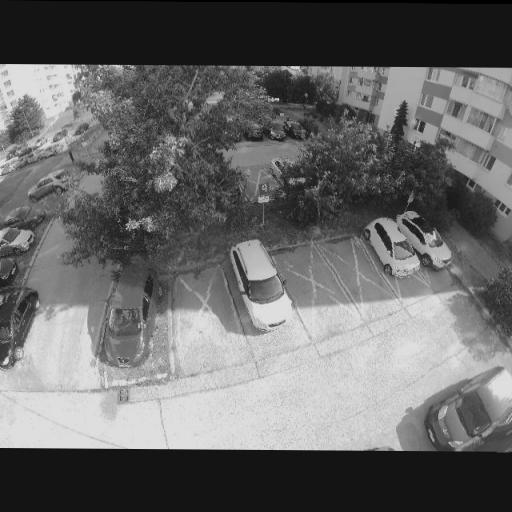busy: (91, 261, 170, 376), (423, 359, 512, 452), (220, 239, 298, 331), (358, 216, 420, 276), (397, 213, 451, 272), (0, 285, 36, 373), (0, 205, 48, 232), (0, 226, 34, 257), (26, 179, 62, 202), (262, 120, 288, 142), (242, 121, 268, 141)
free: (174, 292, 231, 345), (285, 263, 334, 302), (331, 254, 370, 287), (246, 169, 278, 197), (31, 187, 59, 216)
